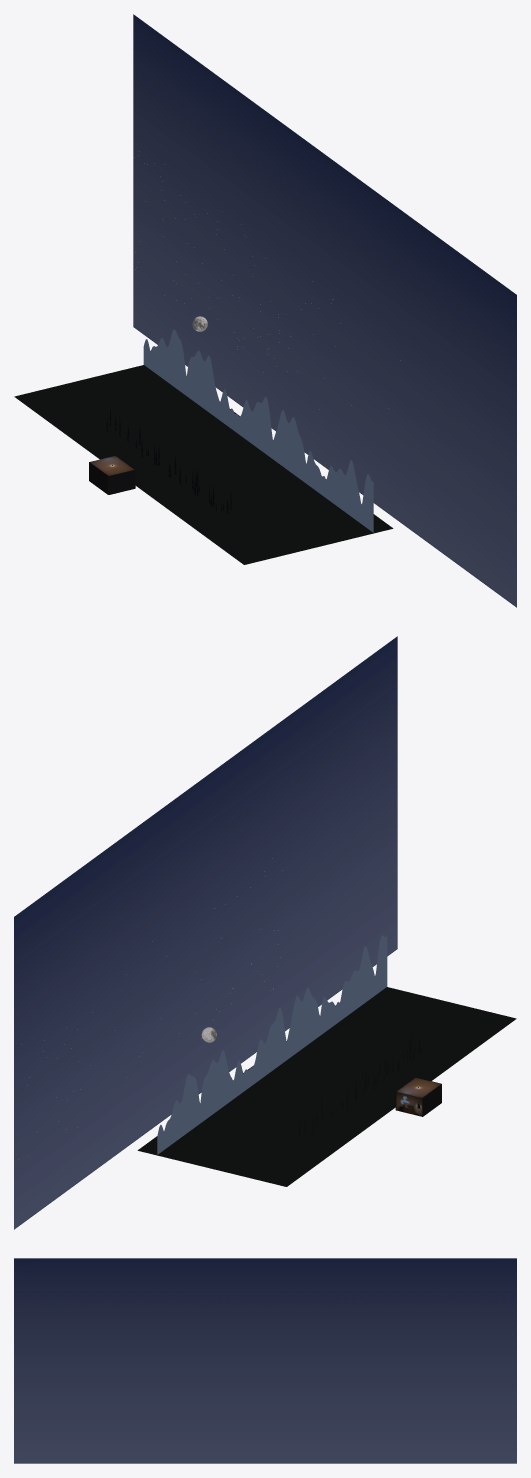
3 views of the same model, one above another, from view 1: azimuth 30°, elevation 25°; view 2: azimuth 150°, elevation 25°; view 3: azimuth 270°, elevation 25° (orthographic). The views are drawn at different scales.
Parts seen in each view (by area): view 1: Outside_Sky, Outside_Ground, Outside_Mountains, Outside_Treeline; view 2: Outside_Sky, Outside_Ground, Outside_Mountains, Outside_Treeline; view 3: Outside_Sky.
Boxes of the visible parts, x1,y1,x2,y2 form: Outside_Sky: (133, 14, 516, 607); Outside_Ground: (14, 365, 393, 564); Outside_Mountains: (143, 329, 373, 532); Outside_Treeline: (106, 408, 231, 513); Outside_Sky: (14, 636, 397, 1229); Outside_Ground: (137, 987, 516, 1186); Outside_Mountains: (157, 935, 387, 1154); Outside_Treeline: (298, 1032, 421, 1136); Outside_Sky: (14, 1258, 516, 1463).
Bounding box in the file's own units: 34.1 × 45 × 100.
Materials: 124 (100 with a texture image).
